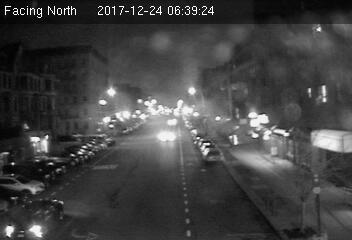car: (3, 198, 66, 238), (157, 130, 177, 144), (203, 148, 224, 161)
